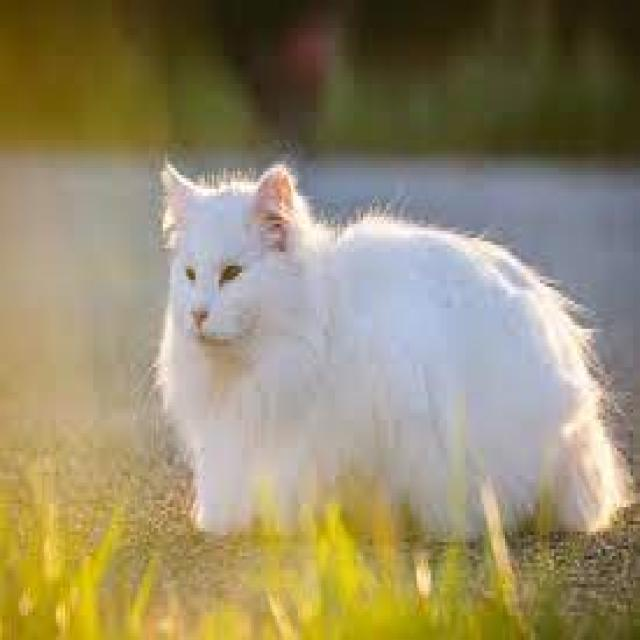cat: (160, 165, 629, 533)
